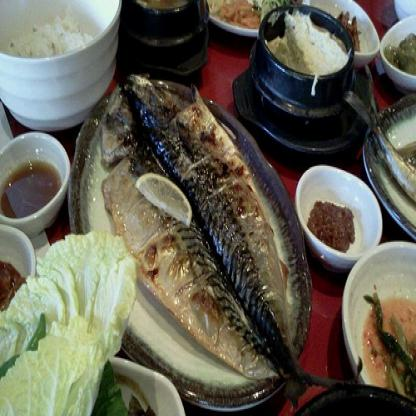Peixe: (110, 74, 301, 385)
